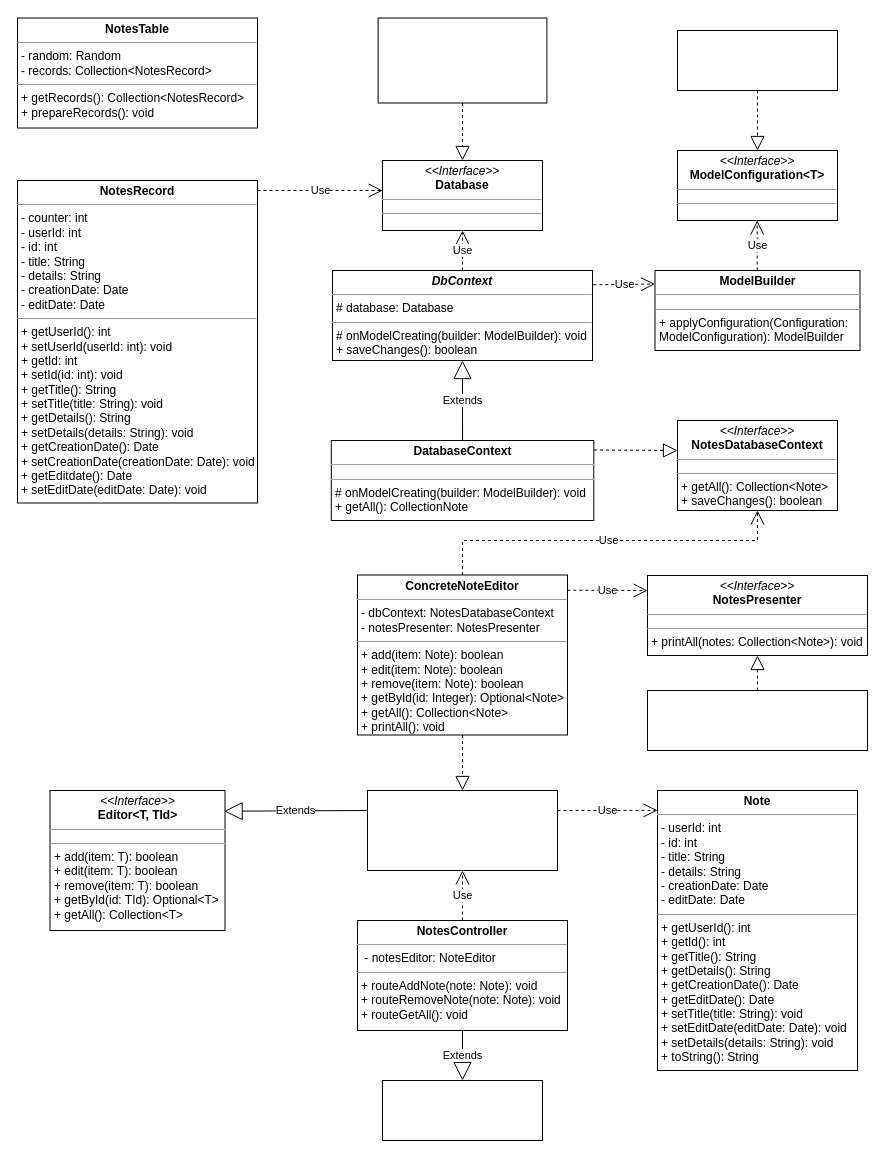
This 885x1158 diagram has some shape labels left out. Here are the shapes that lost their labels. From the top down, the box of each, then its label:
(377, 17, 547, 103): NotesDatabase - notesTable: NotesTable + getNotesTable(): NotesTable
(676, 30, 838, 90): NoteConfiguration
(646, 690, 868, 750): NotesConsolePresenter + printAll(notes: Collection<Note>): void
(366, 790, 558, 870): <<Interface>> NoteEditor + printAll(): void
(382, 1080, 542, 1140): Controller
